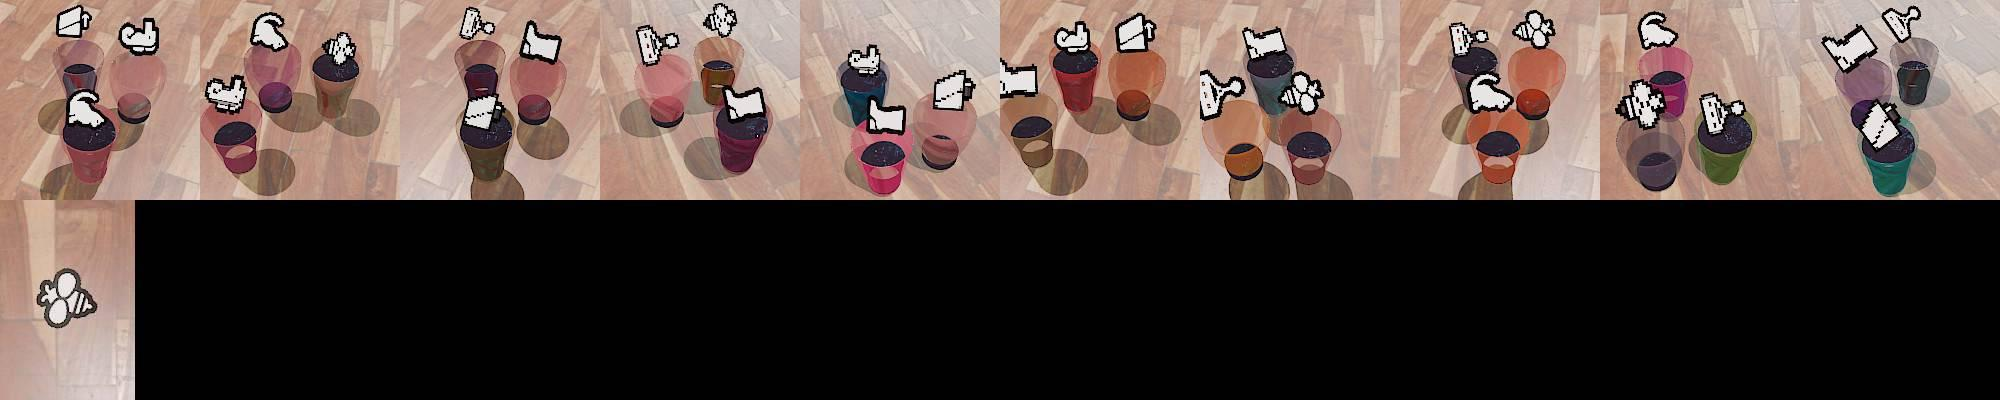icon: (40, 269, 98, 325), (1820, 24, 1880, 78), (1615, 78, 1668, 130), (1199, 68, 1245, 120), (1857, 99, 1903, 150), (1699, 90, 1746, 136), (1467, 70, 1517, 113), (634, 24, 681, 69), (1279, 70, 1325, 115), (518, 19, 564, 64), (932, 68, 978, 112), (66, 88, 110, 130), (1513, 9, 1557, 50), (1241, 24, 1288, 62), (1115, 11, 1157, 54), (204, 74, 247, 115), (721, 84, 767, 122), (119, 17, 161, 56), (1636, 11, 1679, 51), (1448, 20, 1491, 59), (249, 11, 288, 51), (462, 92, 503, 130), (999, 60, 1038, 98), (1881, 5, 1922, 42), (1051, 18, 1093, 54), (866, 99, 907, 134), (55, 4, 93, 39), (321, 31, 357, 66), (459, 6, 495, 41), (703, 3, 737, 37), (847, 45, 883, 78)
